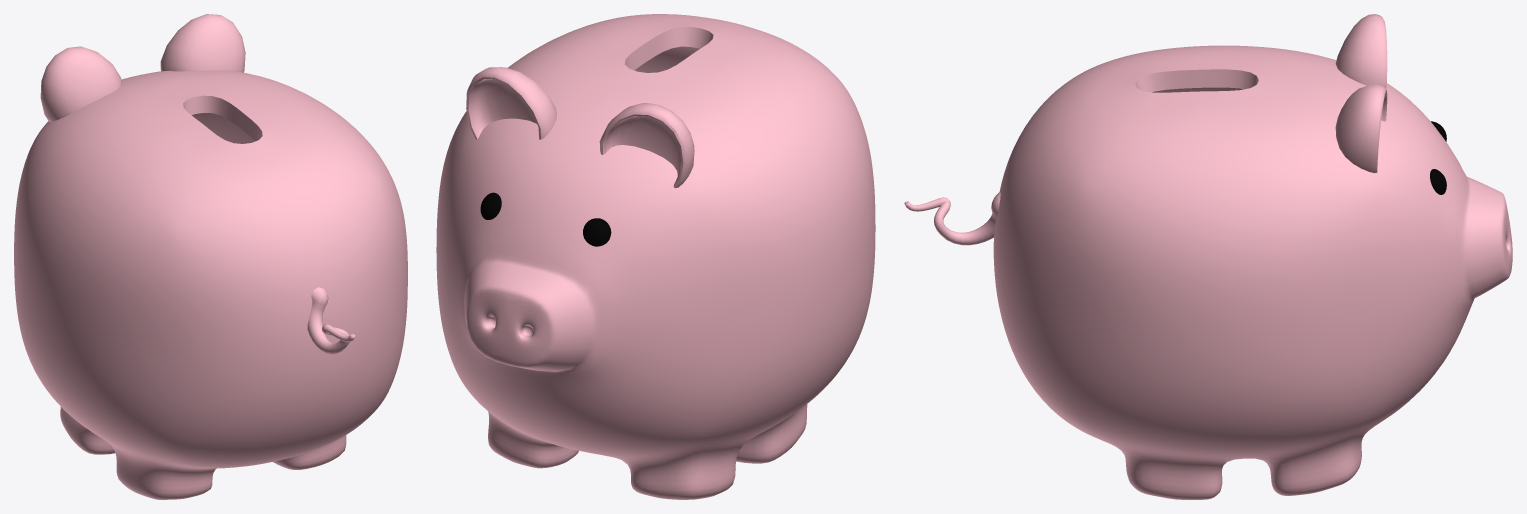
The model's file is piggy_bank.fbx.
3 views of the same model, side by side, from view 1: azimuth 30°, elevation 25°; view 2: azimuth 150°, elevation 25°; view 3: azimuth 270°, elevation 25° (orthographic). The views are drawn at different scales.
Visible parts, largest first — view 1: Piggy, Piggy-Tail; view 2: Piggy; view 3: Piggy, Piggy-Tail.
Boxes of the visible parts, x1,y1,x2,y2 form: Piggy: [14, 14, 407, 499]; Piggy-Tail: [307, 287, 355, 354]; Piggy: [436, 14, 875, 499]; Piggy: [993, 14, 1512, 499]; Piggy-Tail: [904, 192, 1000, 245].
Bounding box in the file's own units: 106 × 114 × 157.
